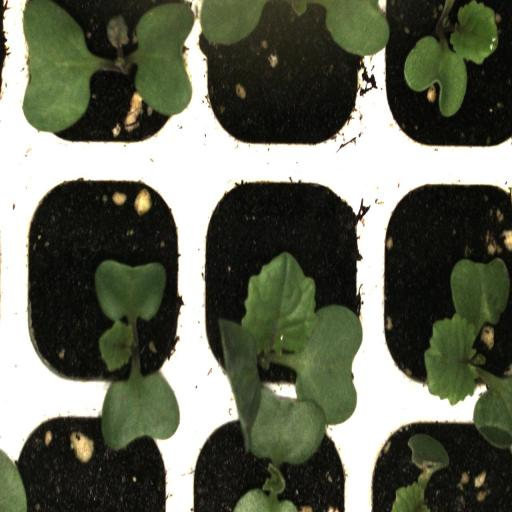Folha: (95, 259, 180, 452), (130, 0, 268, 117), (404, 0, 499, 117), (297, 0, 390, 57)
Germinacao: (192, 160, 373, 405), (15, 160, 191, 402), (373, 158, 512, 404), (12, 0, 192, 158)
